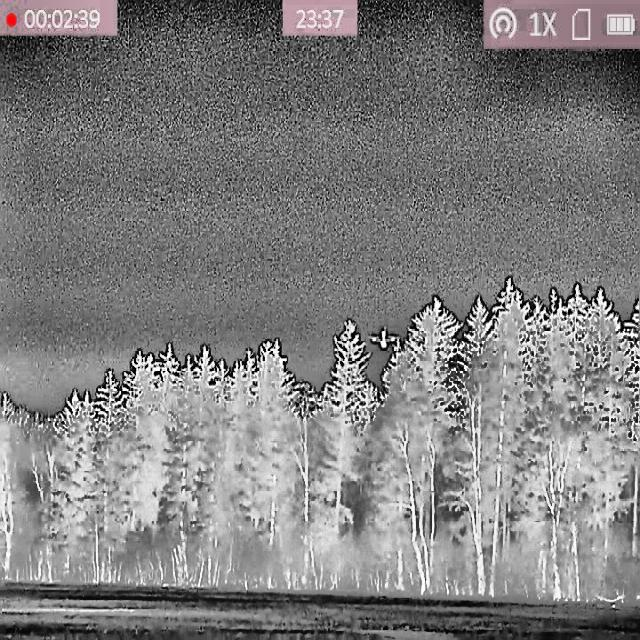drone: (371, 326, 397, 350)
